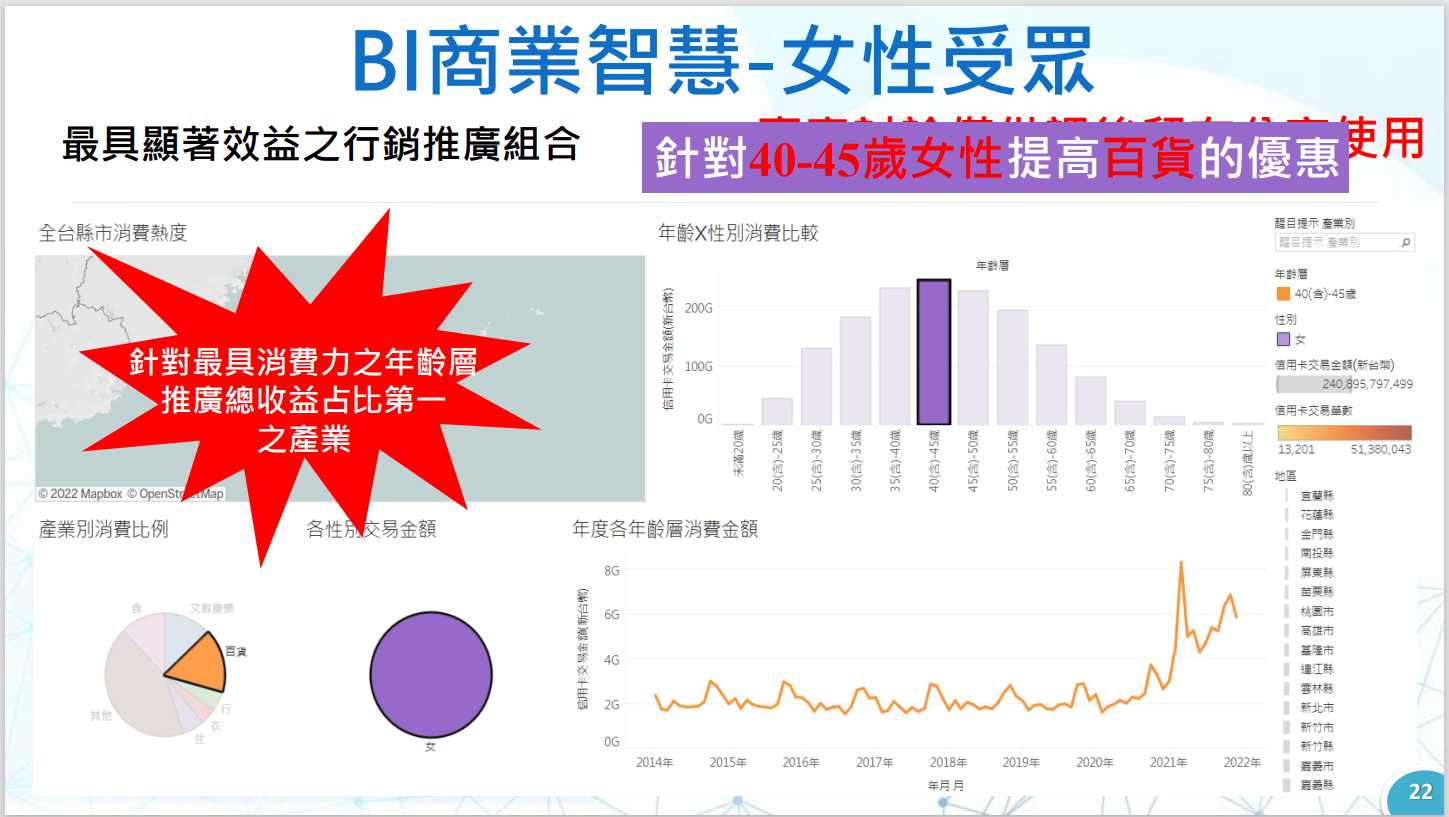

The page's visual inventory and layout, read from the dashboard file:
{"tool":"tableau","page":{"name":"儀表板窗格 1","canvas":[1000,1000],"units":"permille","ordinal":0},"visuals":[{"type":"worksheet","title":"全台縣市消費熱度","mark":"Multipolygon","box":[4.8,9.4,446.9,490.6]},{"type":"worksheet","title":"年齡X性別消費比較","mark":"Automatic","rows":["信用卡交易金額(新台幣)"],"cols":["年齡層"],"box":[451.7,9.4,446.9,490.6]},{"type":"highlighter","title":"產業別消費比例","param":"[federated.0g2oetc1v2s88r16os5ns0wi0wuw].[none:產業別:nk]","box":[898.6,9.4,96.6,65.7]},{"type":"legend","title":"年度各年齡層消費金額","param":"[federated.0g2oetc1v2s88r16os5ns0wi0wuw].[none:年齡層:nk]","box":[898.6,75.1,96.6,342.7]},{"type":"legend","title":"年齡X性別消費比較","param":"[federated.0g2oetc1v2s88r16os5ns0wi0wuw].[none:性別:nk]","box":[898.6,417.8,96.6,84.5]},{"type":"worksheet","title":"產業別消費比例","mark":"Pie","box":[4.8,500,192.8,490.6]},{"type":"worksheet","title":"各性別交易金額","mark":"Pie","box":[197.6,500,192.2,490.6]},{"type":"worksheet","title":"年度各年齡層消費金額","mark":"Automatic","rows":["信用卡交易金額(新台幣)"],"cols":["年月"],"box":[389.8,500,508.8,490.6]},{"type":"legend","title":"各性別交易金額","param":"[federated.0g2oetc1v2s88r16os5ns0wi0wuw].[sum:信用卡交易金額(新台幣):qk]","box":[898.6,502.4,96.6,59.9]},{"type":"legend","title":"全台縣市消費熱度","param":"[federated.0g2oetc1v2s88r16os5ns0wi0wuw].[sum:信用卡交易金額(新台幣):qk]","box":[898.6,562.2,96.6,85.7]},{"type":"legend","title":"全台縣市消費熱度","param":"[federated.0g2oetc1v2s88r16os5ns0wi0wuw].[none:地區:nk]","box":[898.6,647.9,96.6,342.7]}]}

Visuals, with their boxes on the dashboard's canvas, which has no fixed pixel size, in thousandths of its width and height (x1, y1, x2, y2). These are canvas units, not pixel positions in the 1449x817 screenshot, which may show the page scaled, cropped or inside an application window:
"全台縣市消費熱度" worksheet (Multipolygon marks): (left=5, top=9, right=452, bottom=500)
"年齡X性別消費比較" worksheet: (left=452, top=9, right=899, bottom=500)
"產業別消費比例" highlighter: (left=899, top=9, right=995, bottom=75)
"年度各年齡層消費金額" legend: (left=899, top=75, right=995, bottom=418)
"年齡X性別消費比較" legend: (left=899, top=418, right=995, bottom=502)
"產業別消費比例" worksheet (Pie marks): (left=5, top=500, right=198, bottom=991)
"各性別交易金額" worksheet (Pie marks): (left=198, top=500, right=390, bottom=991)
"年度各年齡層消費金額" worksheet: (left=390, top=500, right=899, bottom=991)
"各性別交易金額" legend: (left=899, top=502, right=995, bottom=562)
"全台縣市消費熱度" legend: (left=899, top=562, right=995, bottom=648)
"全台縣市消費熱度" legend: (left=899, top=648, right=995, bottom=991)
